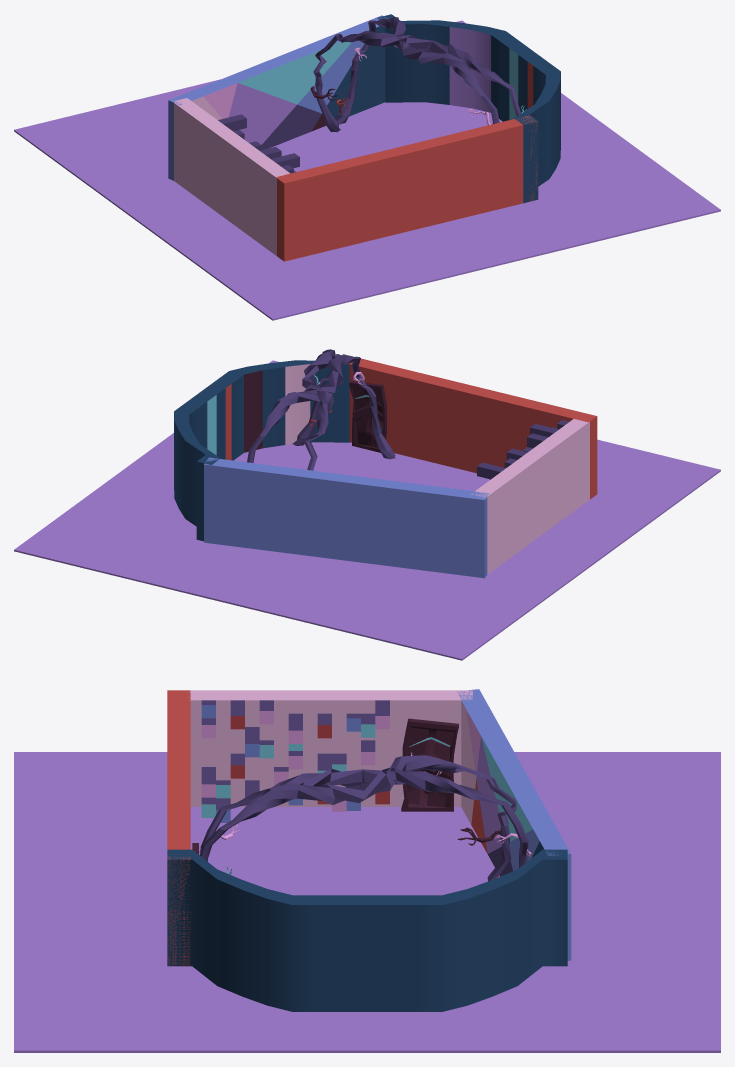
The model's file is Room.fbx.
3 views of the same model, one above another, from view 1: azimuth 30°, elevation 25°; view 2: azimuth 150°, elevation 25°; view 3: azimuth 270°, elevation 25° (orthographic). The views are drawn at different scales.
Parts seen in each view (by area): view 1: pCube9; view 2: pCube9; view 3: pCube9.
Boxes of the visible parts, <box> form: pCube9: <box>14,14,720,320</box>; pCube9: <box>14,349,720,660</box>; pCube9: <box>14,689,720,1052</box>.
Size of the model in its own units: 300 by 78.2 by 300.
